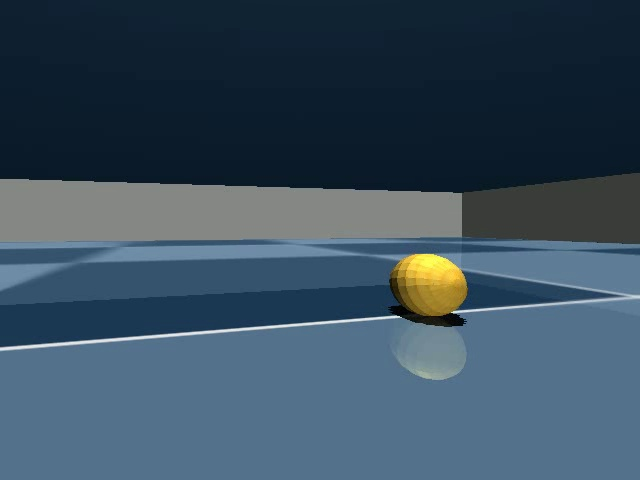lemon: (382, 244, 477, 330)
